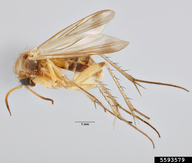Fruit fly: (13, 14, 161, 117)
